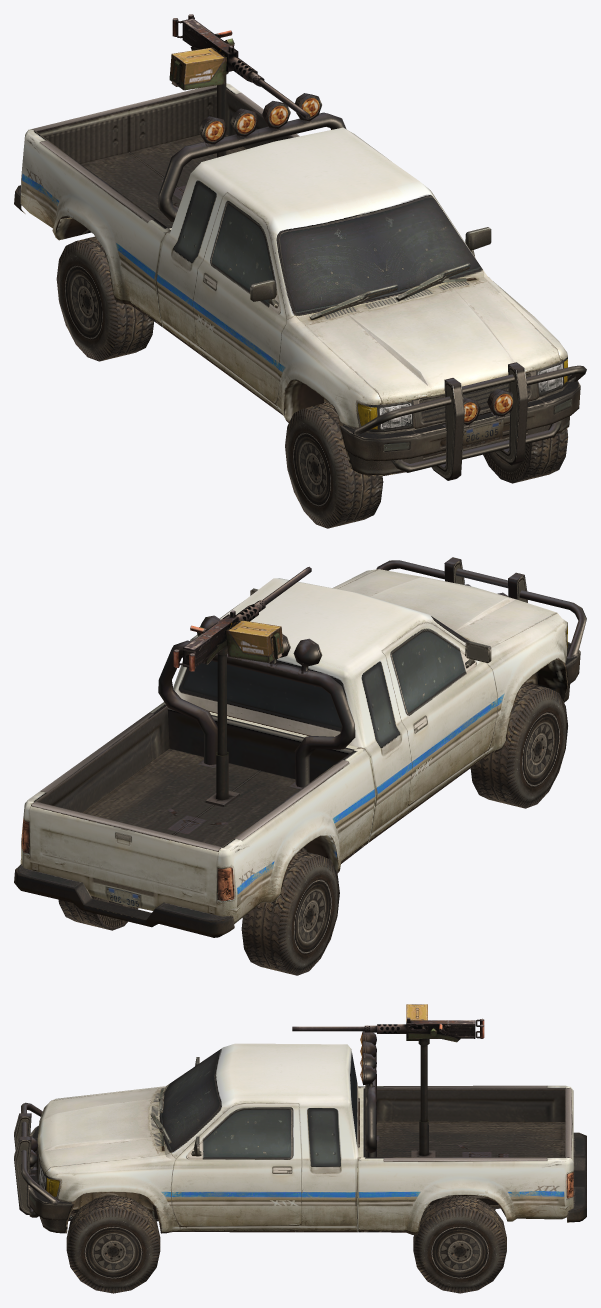
Rendered from BH_Vehicle_Toyota_hilux_pack.fbx.
3 views of the same model, one above another, from view 1: azimuth 30°, elevation 25°; view 2: azimuth 150°, elevation 25°; view 3: azimuth 270°, elevation 25° (orthographic). The views are drawn at different scales.
Parts seen in each view (by area): view 1: Body, Front_wheel_R, Back_wheel, Gun1, Front_wheel_L; view 2: Body, Back_wheel, Front_wheel_R, Gun1, Gun2; view 3: Body, Front_wheel_L, Back_wheel, Gun1, Gun2.
Boxes of the visible parts, x1,y1,x2,y2 form: Body: [14, 83, 586, 480]; Front_wheel_R: [285, 402, 383, 528]; Back_wheel: [56, 236, 153, 361]; Gun1: [169, 14, 310, 119]; Front_wheel_L: [483, 428, 567, 483]; Body: [14, 557, 586, 937]; Back_wheel: [58, 850, 339, 975]; Front_wheel_R: [470, 682, 567, 808]; Gun1: [173, 566, 311, 671]; Gun2: [205, 646, 239, 806]; Body: [14, 1031, 586, 1235]; Front_wheel_L: [66, 1195, 160, 1293]; Back_wheel: [413, 1195, 506, 1293]; Gun1: [292, 1004, 484, 1042]; Gun2: [411, 1039, 435, 1157].
Bounding box in the file's own units: 198 × 243 × 540.
